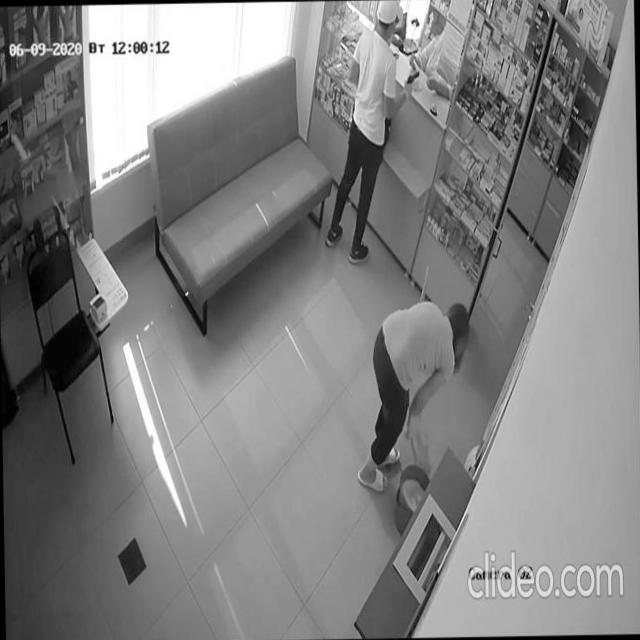gun: (406, 70, 419, 84)
person: (353, 297, 472, 496)
person with a gun: (319, 0, 424, 267)
